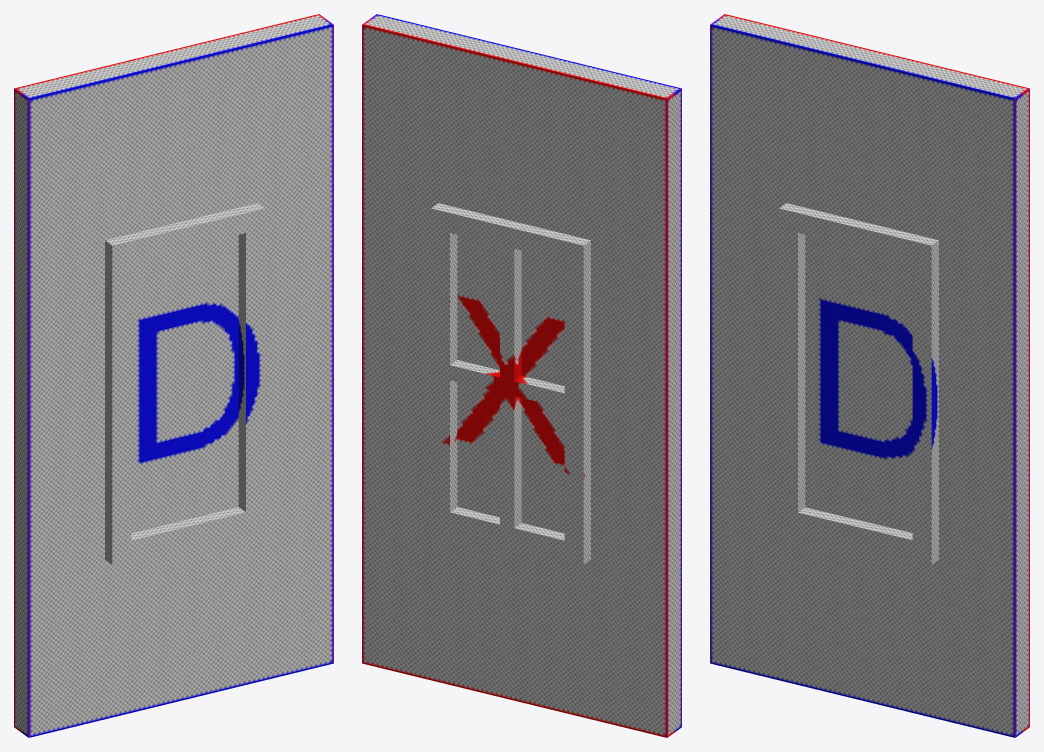
Rendered from Details_Window.fbx.
3 views of the same model, side by side, from view 1: azimuth 30°, elevation 25°; view 2: azimuth 150°, elevation 25°; view 3: azimuth 330°, elevation 25° (orthographic).
Visible parts, largest first — view 1: Details_Window; view 2: Details_Window; view 3: Details_Window.
Boxes of the visible parts, x1,y1,x2,y2 form: Details_Window: (14,14,333,737); Details_Window: (362,14,681,737); Details_Window: (710,14,1029,737).
Bounding box in the file's own units: 300 × 600 × 50.
